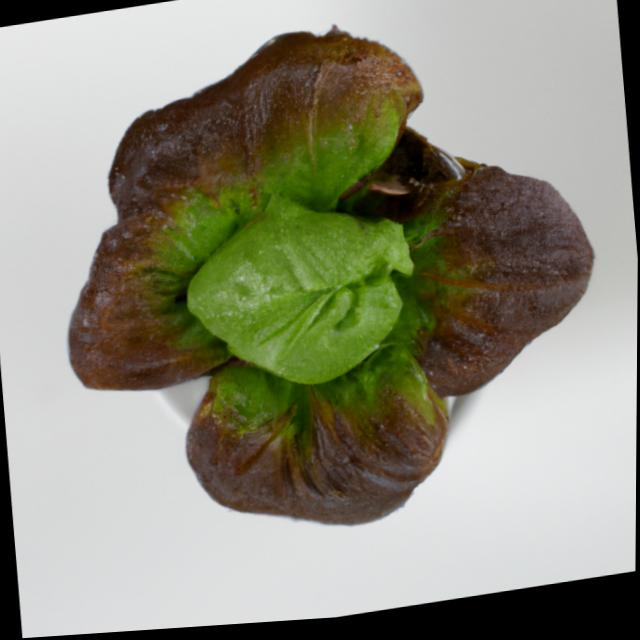-P: (33, 0, 628, 582)
